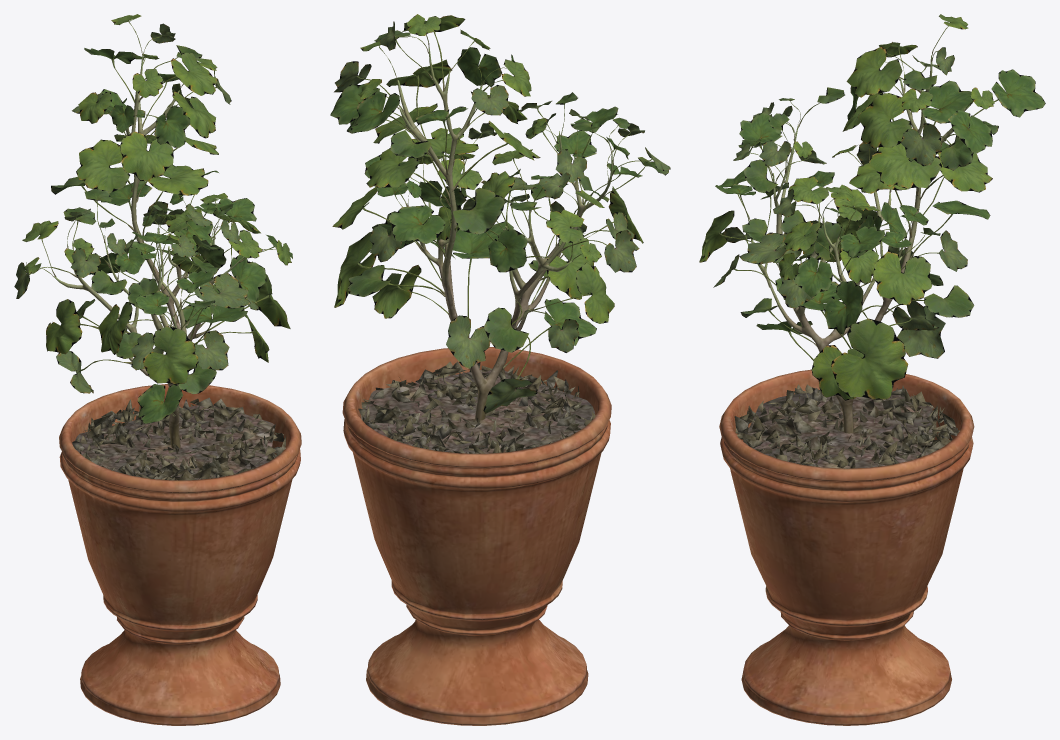
File: potted_plant_01.glb
The picture shows the model from 3 angles, left to right: view 1: azimuth 30°, elevation 25°; view 2: azimuth 150°, elevation 25°; view 3: azimuth 270°, elevation 25°; orthographic projection. The views are drawn at different scales.
Parts seen in each view (by area): view 1: potted_plant_01_pot, potted_plant_01_leaves, potted_plant_01_pebbles, potted_plant_01_stem; view 2: potted_plant_01_pot, potted_plant_01_leaves, potted_plant_01_pebbles, potted_plant_01_stem; view 3: potted_plant_01_pot, potted_plant_01_leaves, potted_plant_01_pebbles, potted_plant_01_stem.
Boxes of the visible parts, <box> form: potted_plant_01_pot: <box>59,384,301,725</box>; potted_plant_01_leaves: <box>14,14,292,423</box>; potted_plant_01_pebbles: <box>72,397,285,480</box>; potted_plant_01_stem: <box>53,54,244,448</box>; potted_plant_01_pot: <box>342,347,611,725</box>; potted_plant_01_leaves: <box>330,14,670,413</box>; potted_plant_01_pebbles: <box>358,361,595,453</box>; potted_plant_01_stem: <box>397,48,612,420</box>; potted_plant_01_pot: <box>719,369,974,725</box>; potted_plant_01_leaves: <box>699,14,1045,400</box>; potted_plant_01_pebbles: <box>734,384,959,468</box>; potted_plant_01_stem: <box>750,55,965,433</box>.
Bounding box in the file's own units: 0.5858 × 1.34 × 0.6336.
2 materials, 2 textured.
